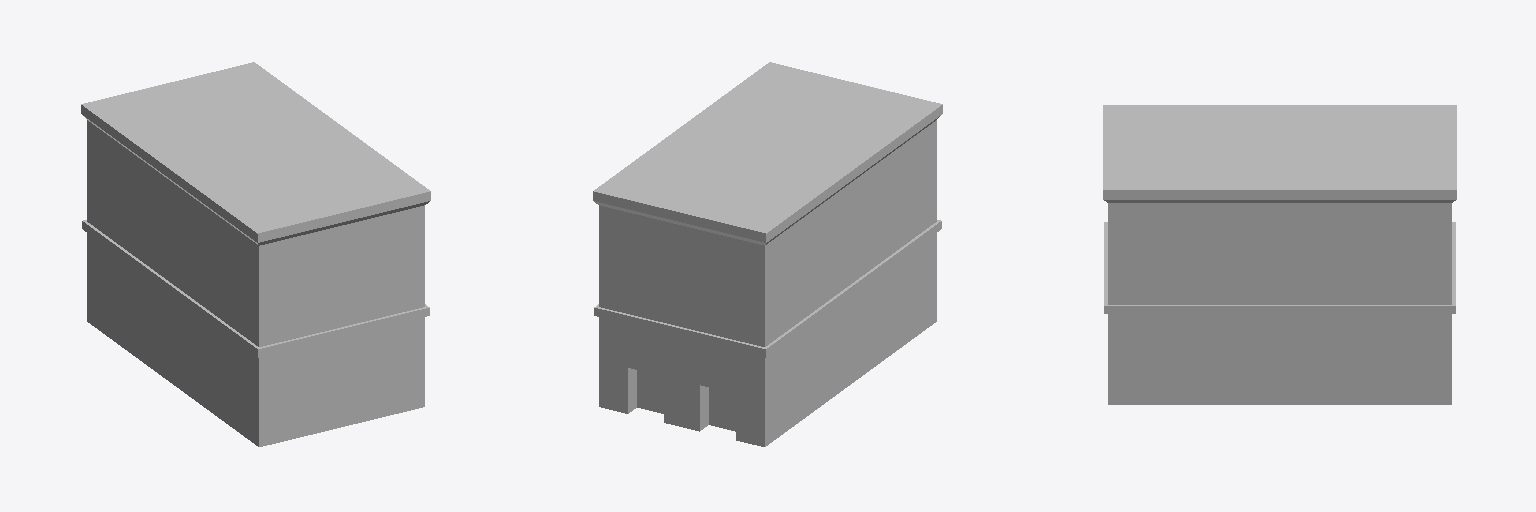
The model's file is Building_04.obj.
3 renders of one model, left to right at view 1: azimuth 30°, elevation 25°; view 2: azimuth 150°, elevation 25°; view 3: azimuth 270°, elevation 25°, orthographic.
Visible parts, largest first — view 1: Building_04_0; view 2: Building_04_0; view 3: Building_04_0.
Part boxes in pixels (x1,y1,x2,y2): Building_04_0: (81, 62, 430, 446); Building_04_0: (593, 62, 942, 446); Building_04_0: (1103, 105, 1456, 404).
Size of the model in its own units: 12.53 by 14.94 by 22.1.